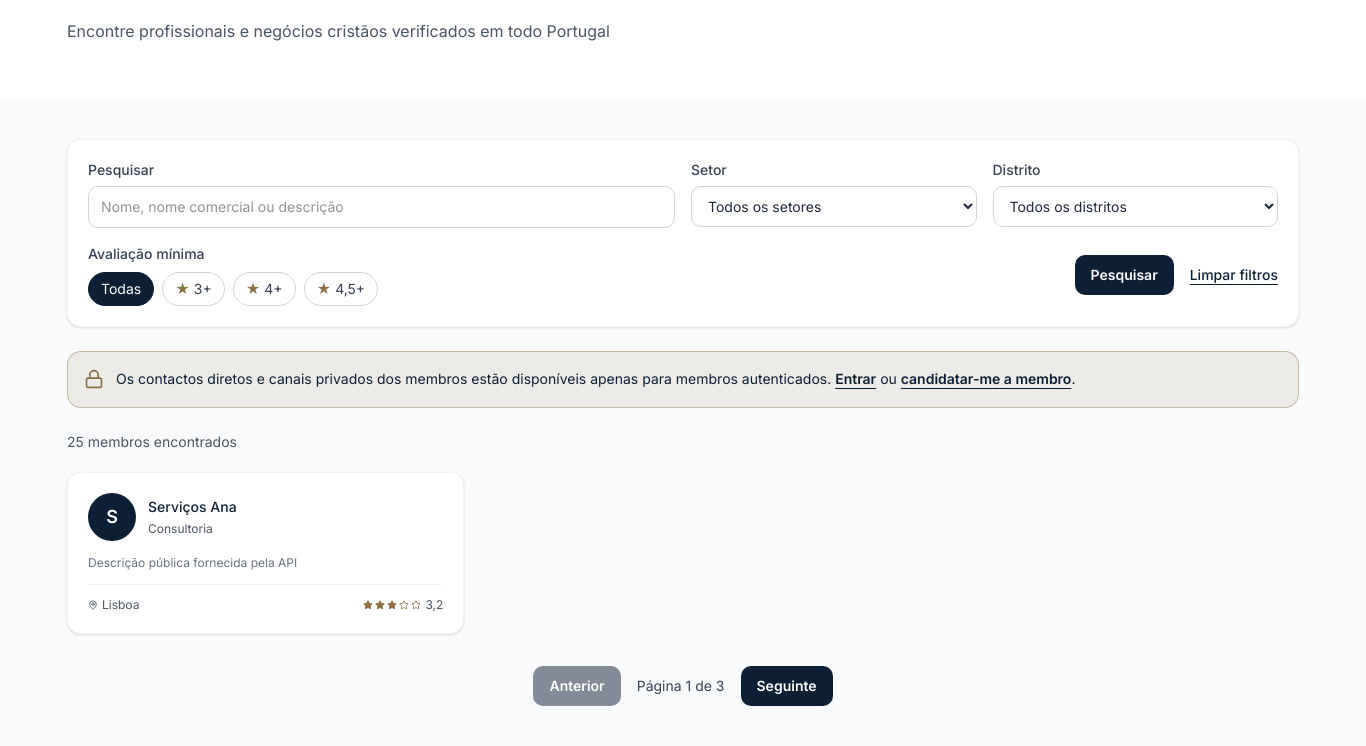
Test case: Diretório de membros › aplica o mínimo decimal no servidor e reinicia a página sem filtrar localmente
(page scrolled)
Expected: the heading "Serviços Ana" is shown, left=148, top=497, right=237, bottom=517
Click the button "Seguinte" at (786,686), box left=740, top=666, right=832, bottom=706
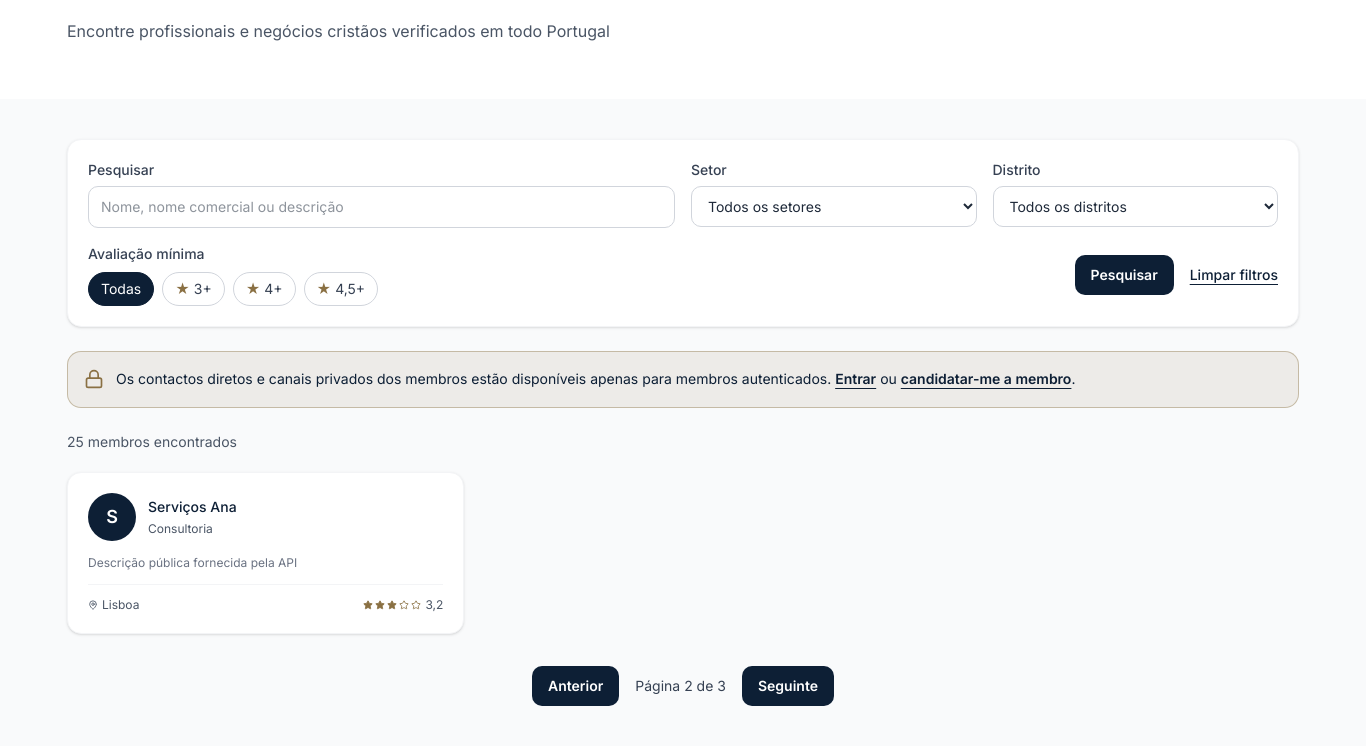
Result: the text "Página 2 de 3" is shown at left=635, top=676, right=726, bottom=696
Click the button named "Pelo menos 4,5 estrelas" at (341,289), box left=304, top=272, right=378, bottom=306
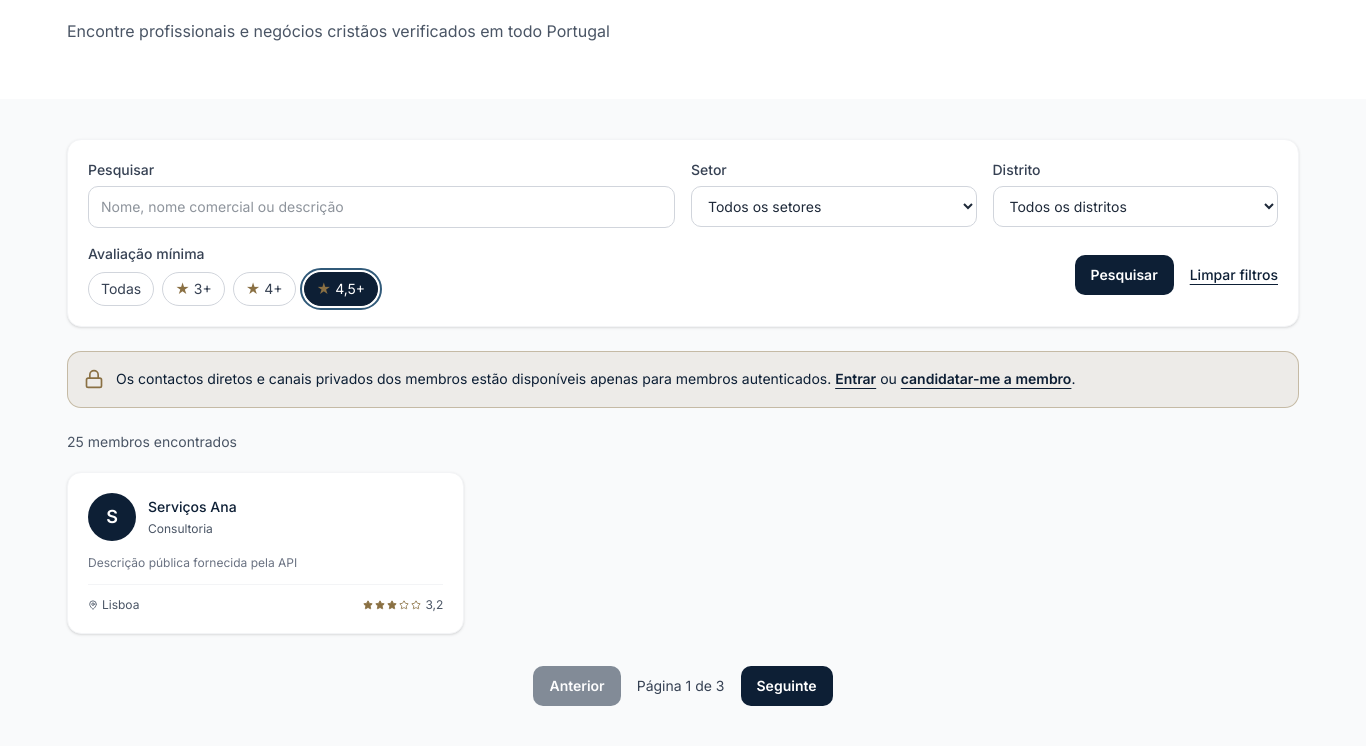
Expected: the heading "Serviços Ana" is shown, left=148, top=497, right=237, bottom=517
Result: the text "Página 1 de 3" is shown at left=637, top=676, right=724, bottom=696
